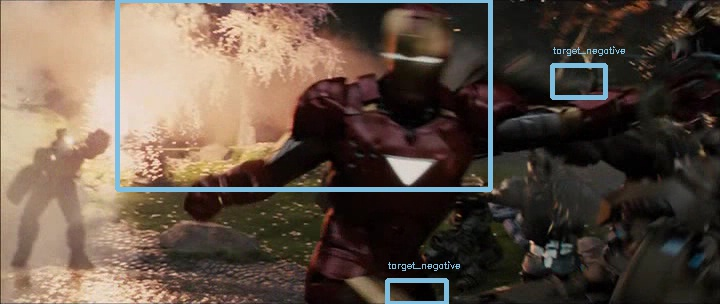person: (374, 12, 450, 92), (373, 12, 449, 92), (375, 12, 451, 92), (374, 11, 450, 91), (374, 13, 450, 93)
target_negative: (26, 128, 657, 252), (331, 146, 629, 277), (276, 192, 716, 255), (319, 31, 602, 51), (577, 235, 712, 250)
